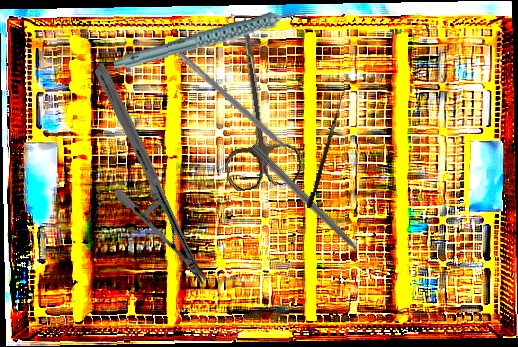Handpiece: (112, 10, 310, 71)
Hook Surgical: (248, 142, 372, 266), (306, 85, 346, 210)
Iris Scissors: (203, 13, 305, 193)
Needle Holder: (28, 61, 274, 287)
Spatula Surgical: (172, 51, 305, 168)
